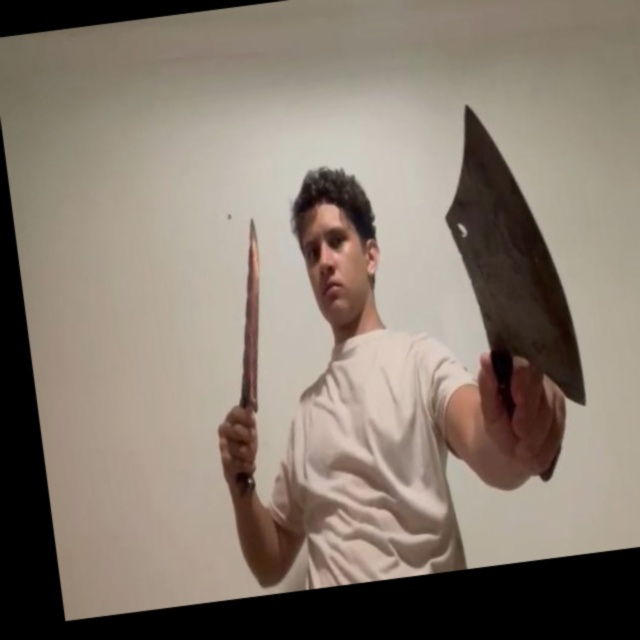Sharp-Object: (429, 94, 586, 421), (216, 219, 277, 410)
